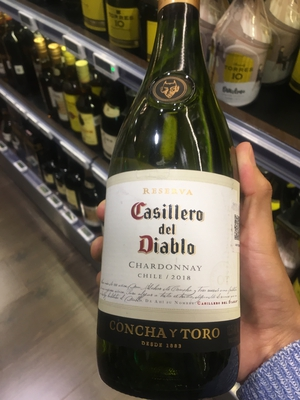casillero del diablo chardonnay: (88, 34, 257, 393)
